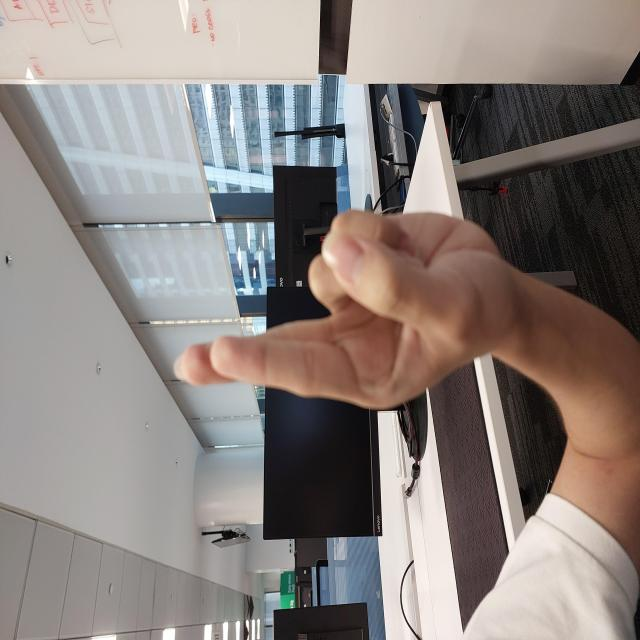R: (228, 173, 433, 512)
